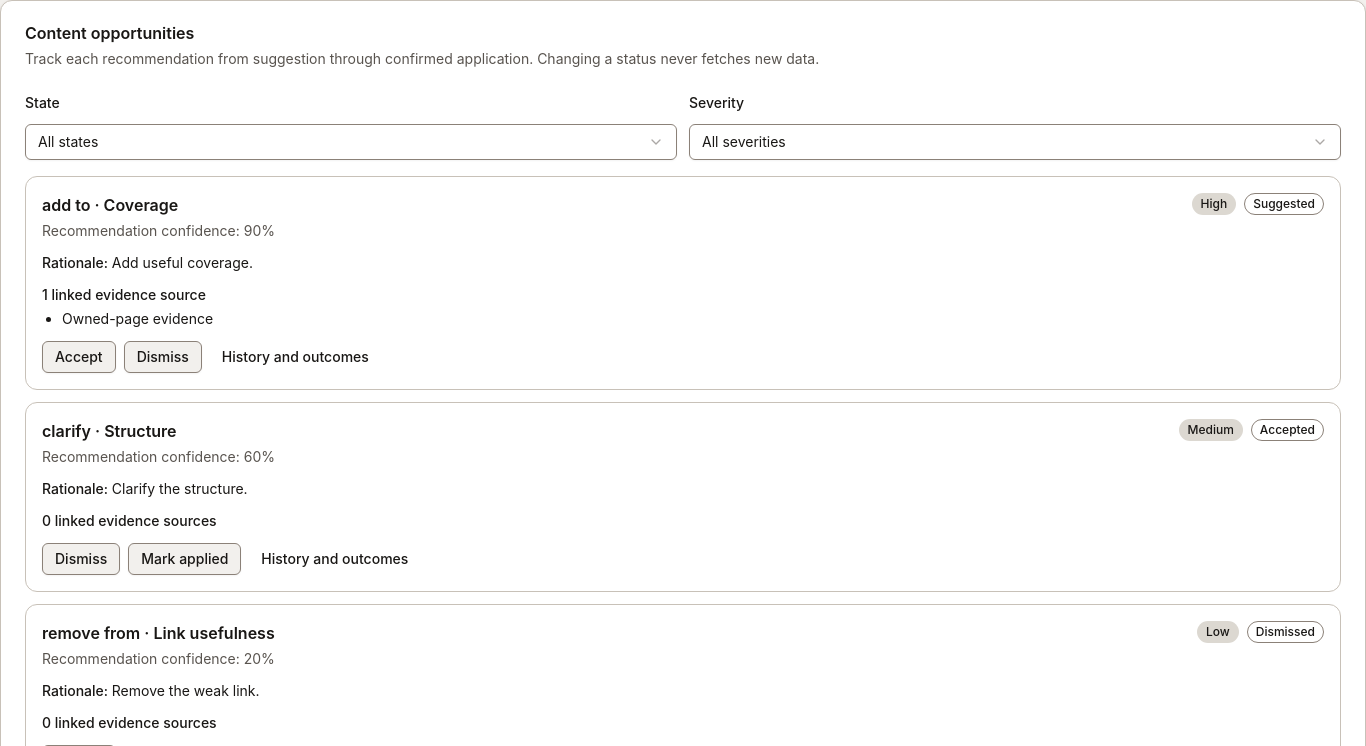
Test: RecommendationWorkflow › blocks apply when a recent authorized hash is unavailable
Click the button "Mark applied" at point(185, 559), box [128, 543, 241, 575]
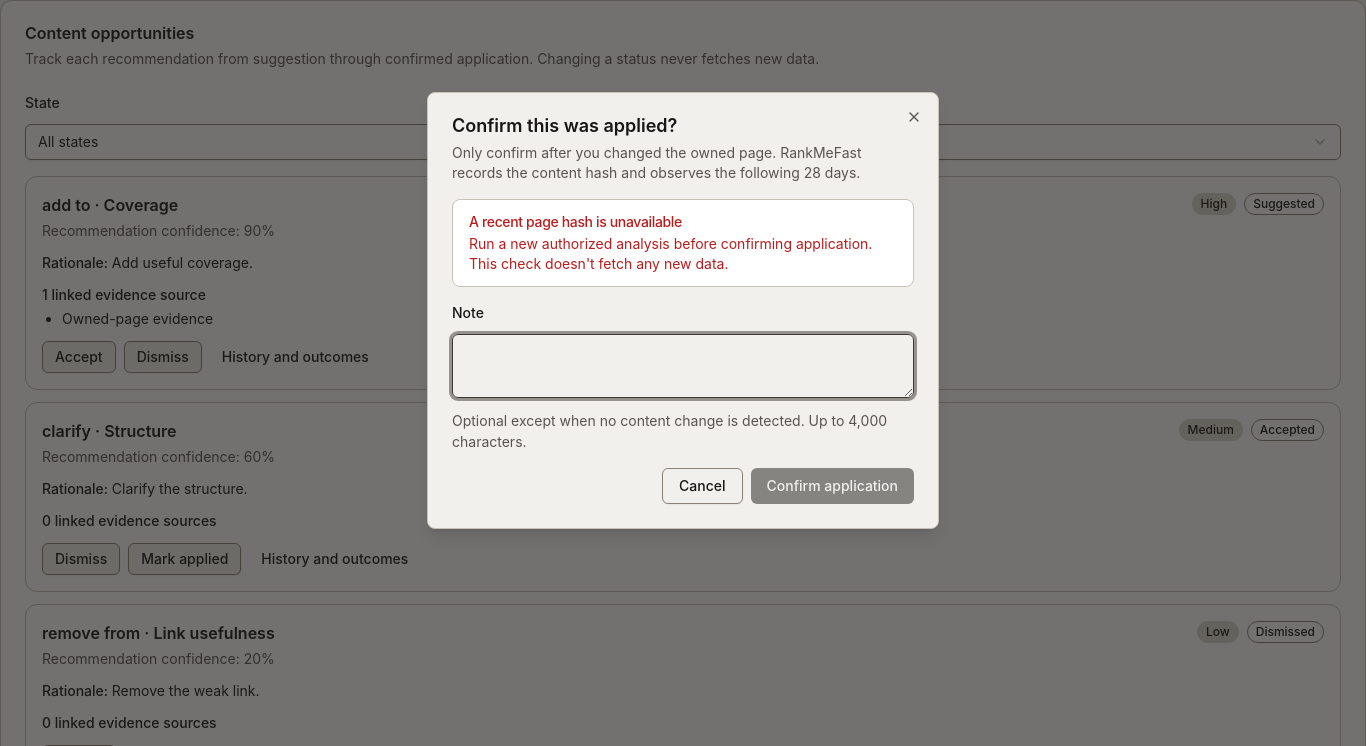
Result: the text "A recent page hash is unavailable" is shown at [469, 213, 682, 230]
Result: the button "Confirm application" is disabled at [751, 468, 914, 504]
